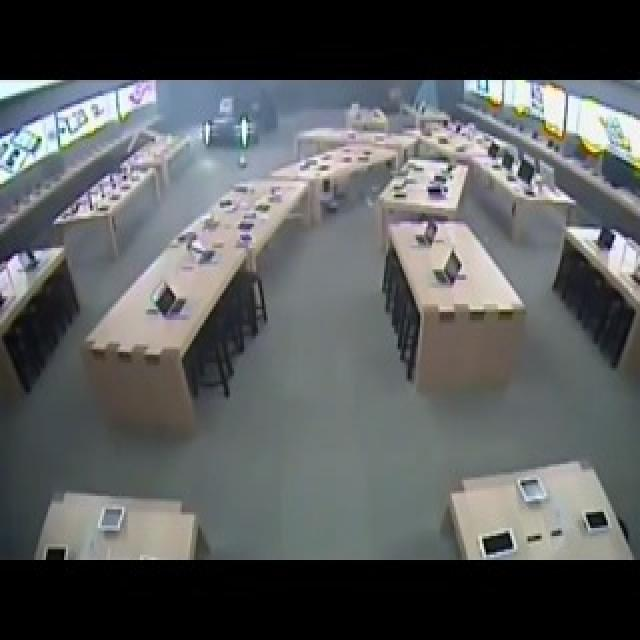burglary: (200, 82, 292, 160)
